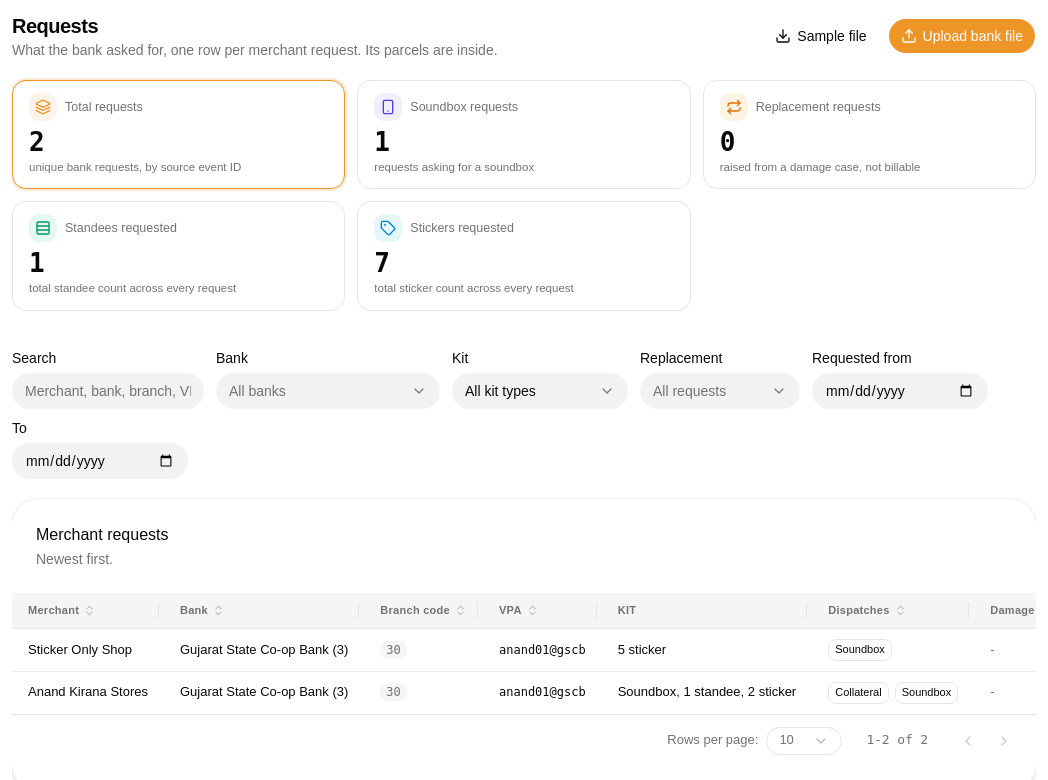
it: RequestsPage › narrows the grid with the Kit filter, and the Soundbox tile drives the same filter
The image size is (1048, 780).
Expected: the text "Anand Kirana Stores" is shown, [28, 684, 148, 702]
Expected: the text "Sticker Only Shop" is shown, [28, 641, 132, 659]
Click the button "Soundbox requests 1 requests asking for a soundbox": (464, 107) [357, 80, 691, 189]
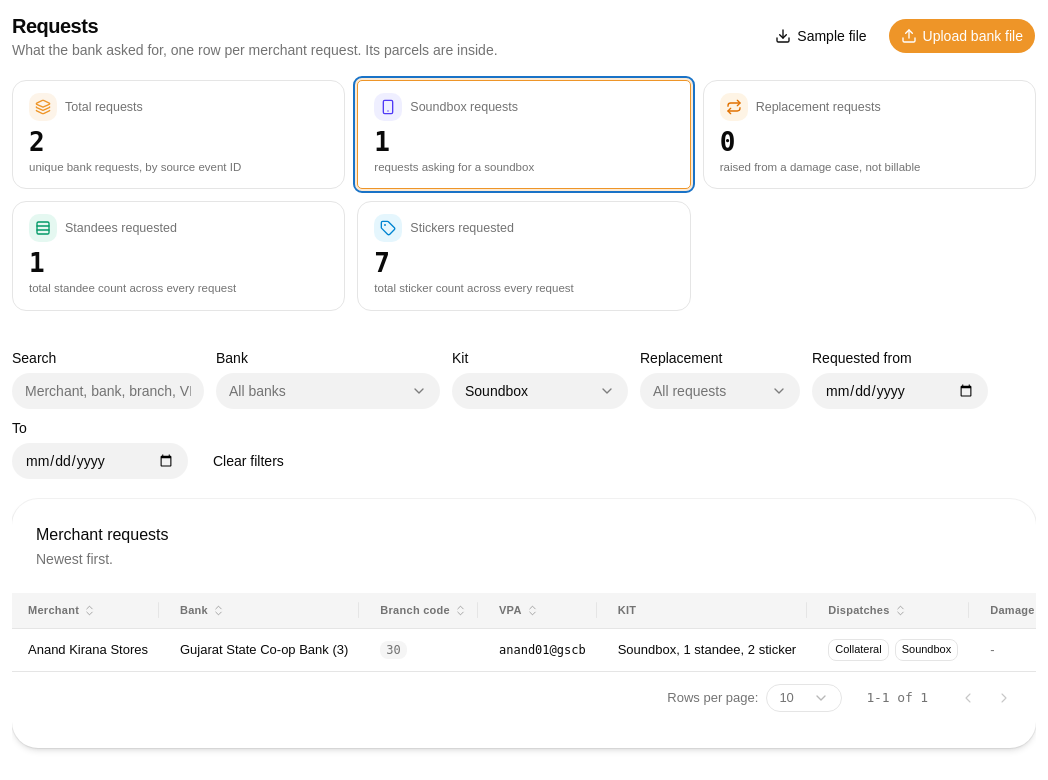
Expected: the text "Anand Kirana Stores" is shown, [28, 641, 148, 659]
Expected: the text "Sticker Only Shop" is gone
Note: Toggling the same tile again clears the filter.
Click the button "Soundbox requests 1 requests asking for a soundbox": (464, 107) [357, 80, 691, 189]
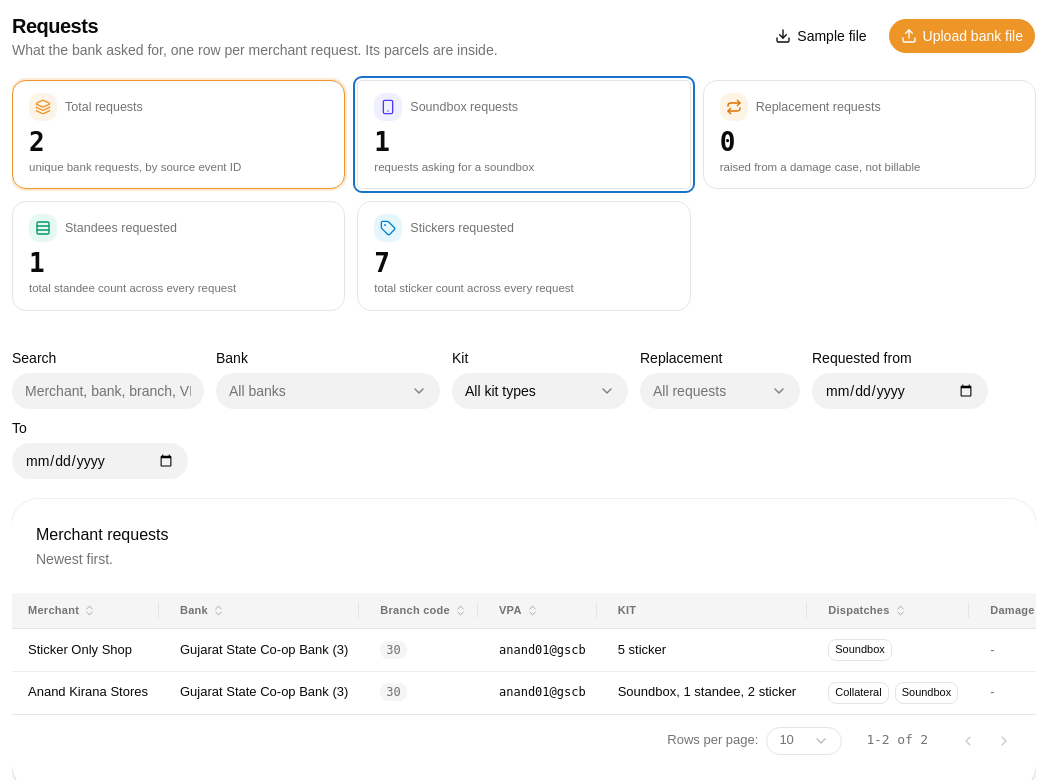
Expected: the text "Sticker Only Shop" is shown, [28, 641, 132, 659]
